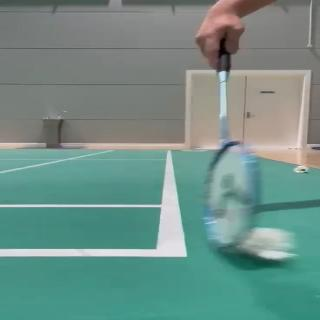Shuttle: (224, 226, 299, 261), (294, 165, 309, 173)
